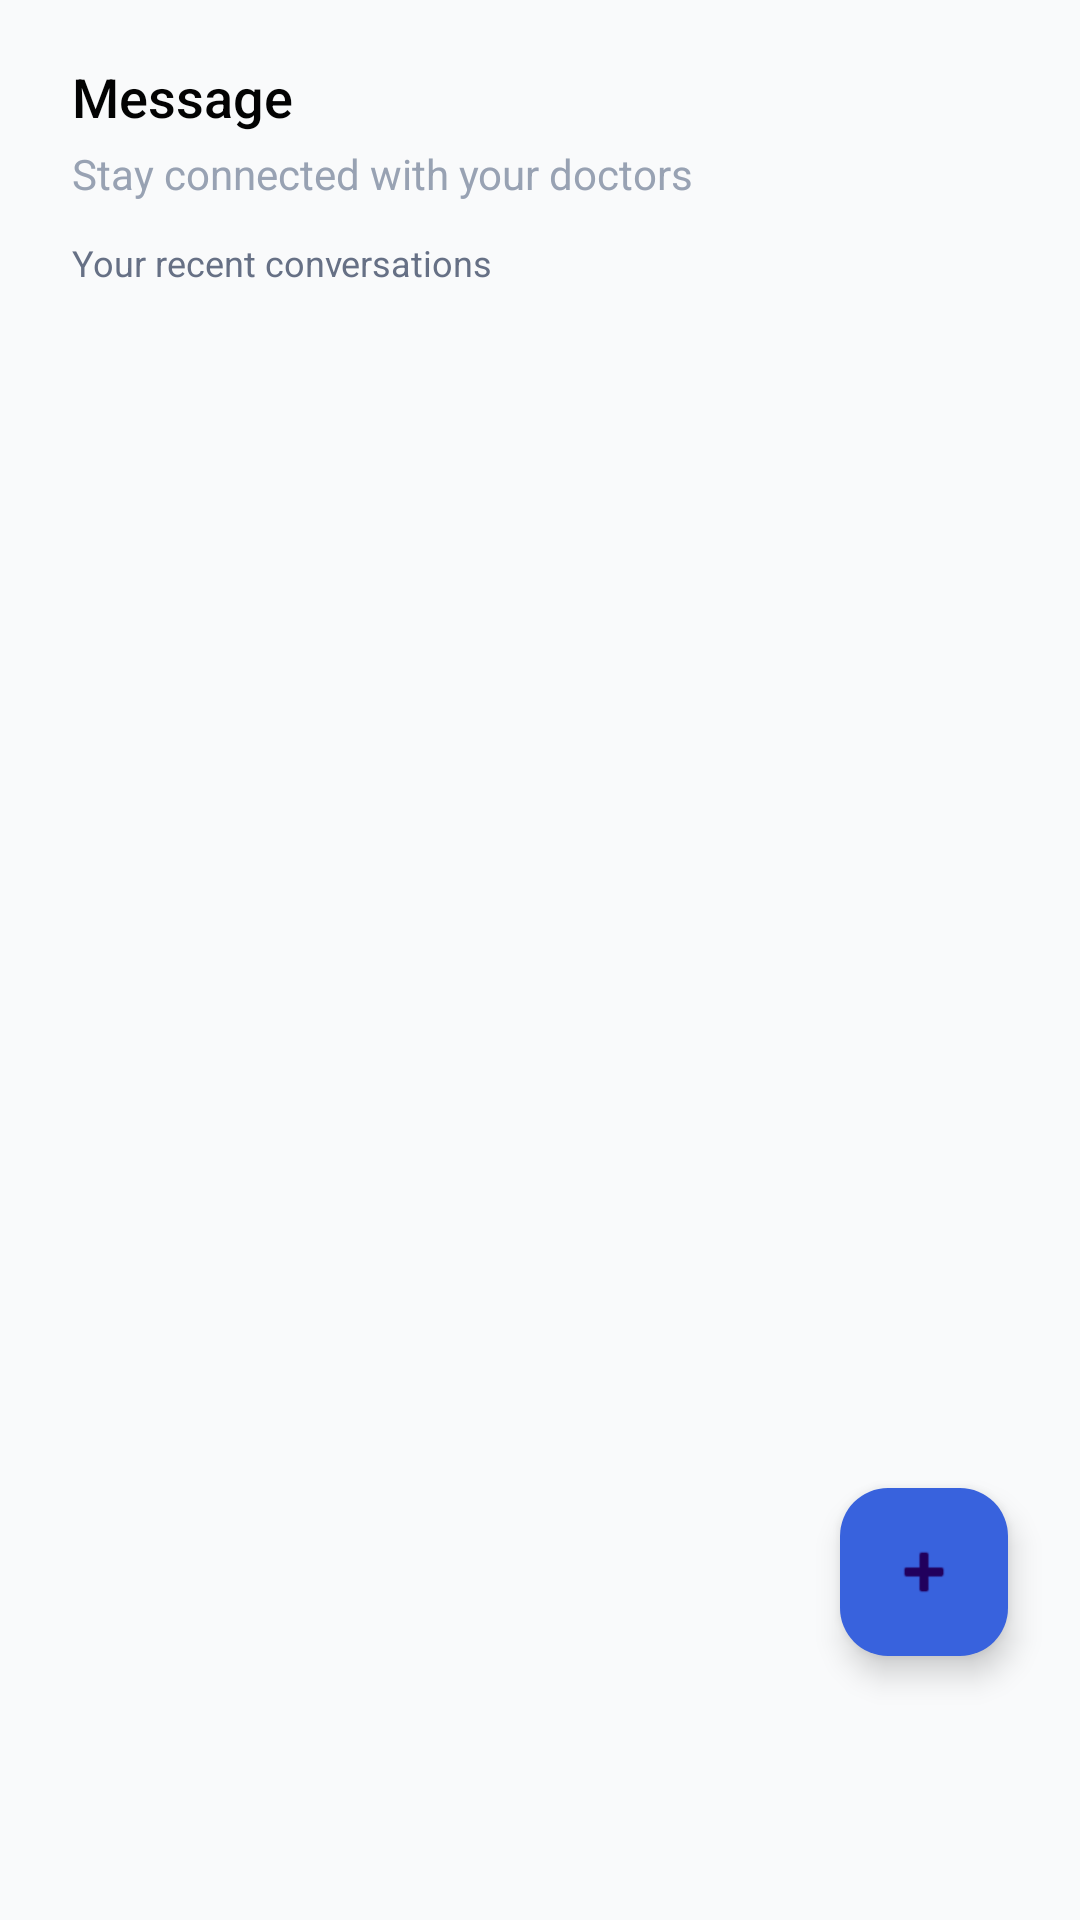

Where to tap for icons on this 1080px×1920px app screen, as [x,y]:
New chat: [924,1572]
